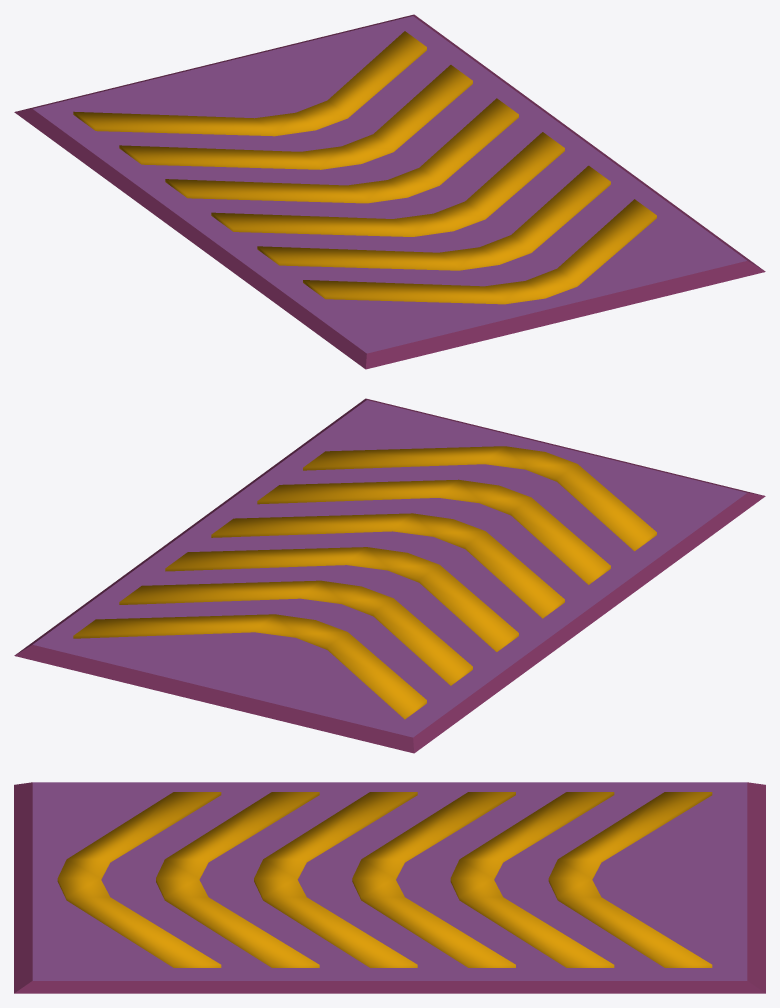
File: Speed_Platform-Model.fbx
The picture shows the model from 3 angles, top to bottom: view 1: azimuth 30°, elevation 25°; view 2: azimuth 150°, elevation 25°; view 3: azimuth 270°, elevation 25°; orthographic projection. The views are drawn at different scales.
Parts seen in each view (by area): view 1: Speed_Platform; view 2: Speed_Platform; view 3: Speed_Platform.
Boxes of the visible parts, bbox=[...] form: Speed_Platform: bbox=[14, 14, 765, 369]; Speed_Platform: bbox=[14, 398, 765, 753]; Speed_Platform: bbox=[14, 782, 765, 993].
Bounding box in the file's own units: 13.62 × 20.72 × 0.3333.
